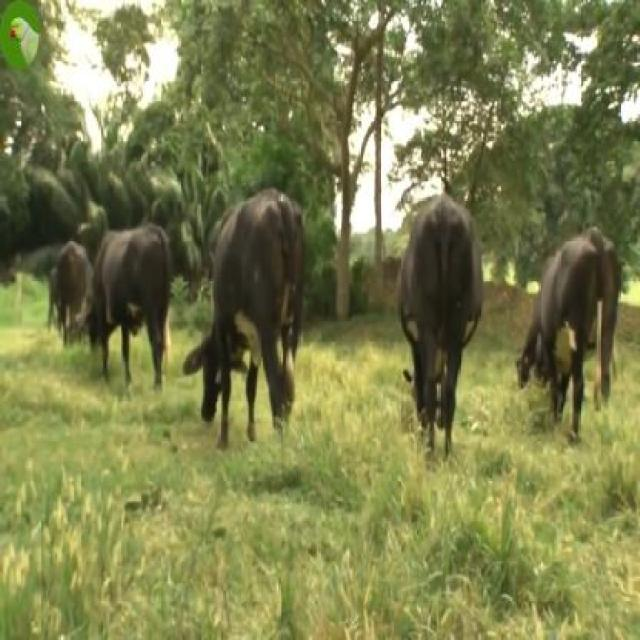Cow: (183, 188, 306, 454), (397, 192, 483, 468), (534, 228, 620, 434), (85, 225, 172, 400)
